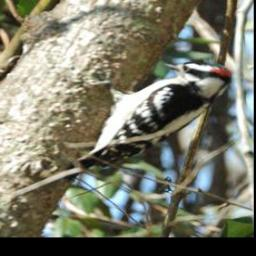Woodpecker: (76, 60, 232, 170)
